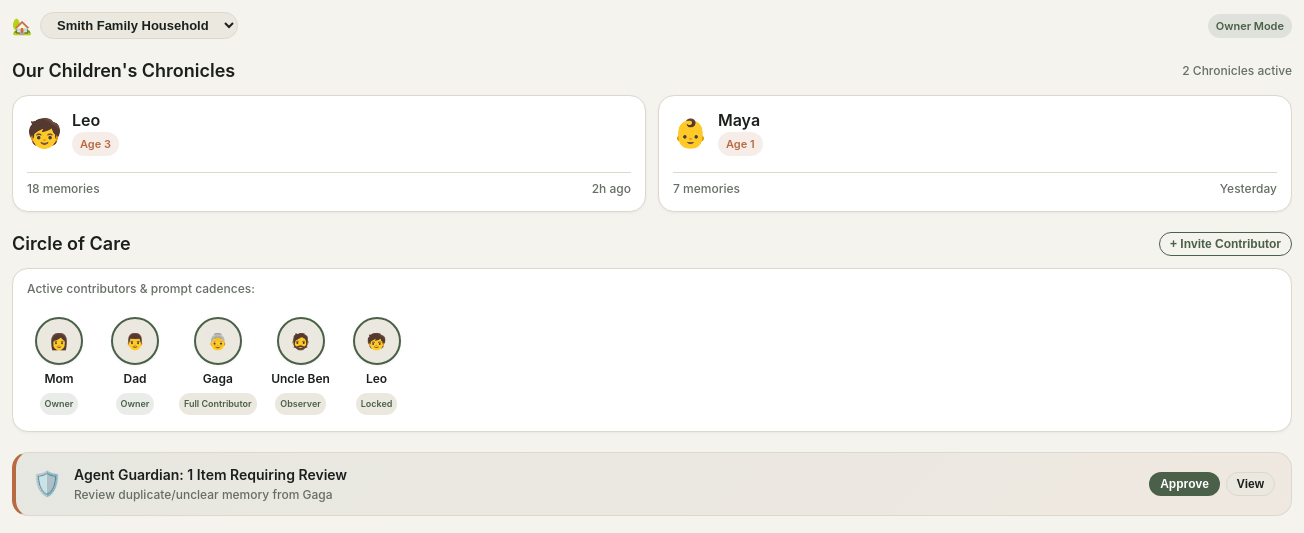
Test: Dashboard › handles approving guardian banner flag
Expected: the heading "Agent Guardian: 1 Item Requiring Review" is shown, [74, 465, 347, 485]
Click the button "Approve" at (1185, 484), box [1149, 472, 1220, 496]
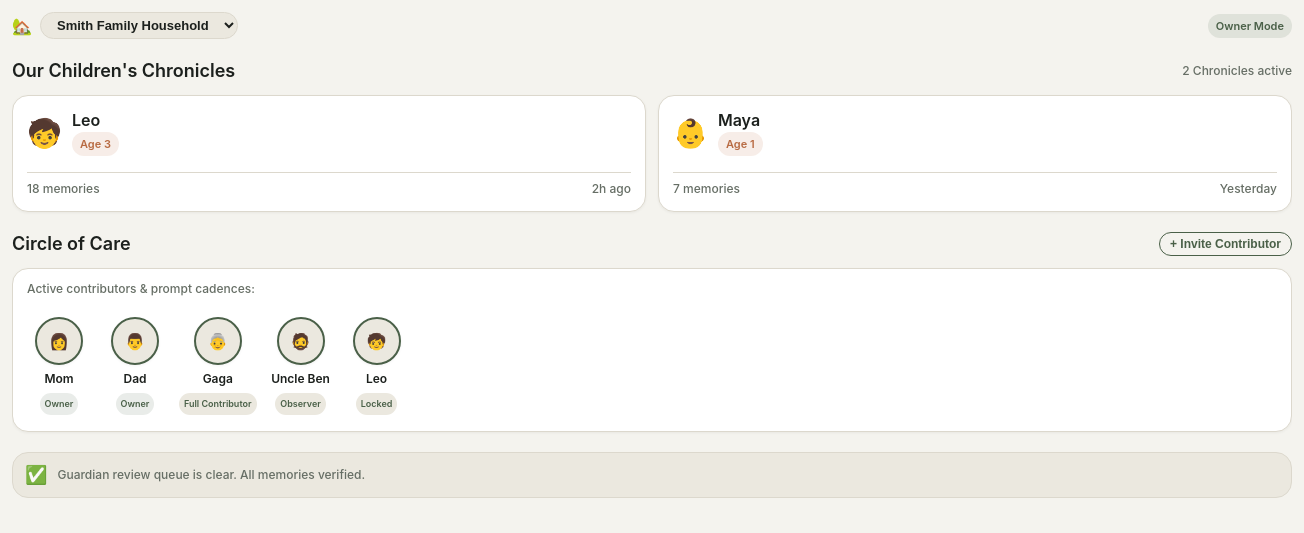
Expected: the text "Guardian review queue is clear. All memories verified." is shown, [58, 467, 365, 483]
